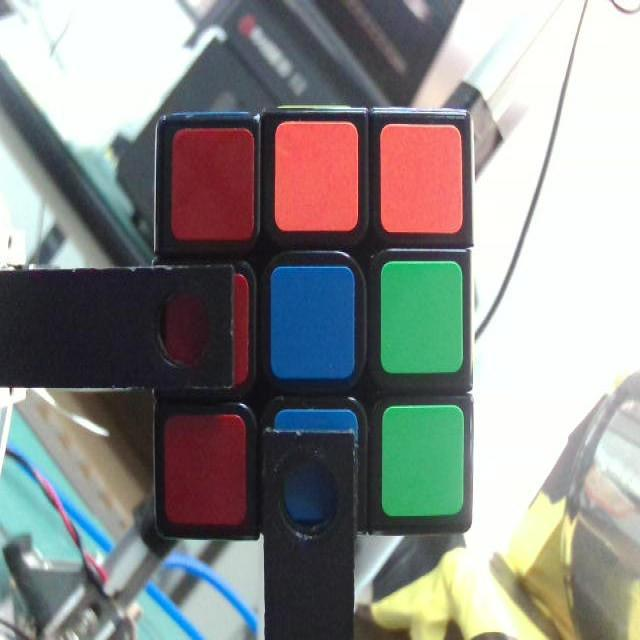b: (275, 412, 358, 516), (272, 270, 352, 376)
g: (380, 258, 461, 373), (386, 408, 466, 514)
o: (274, 120, 362, 232), (380, 123, 463, 234)
r: (160, 417, 249, 525), (165, 278, 249, 388), (172, 130, 254, 236)
